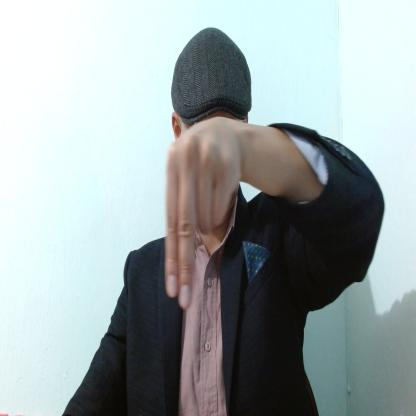N: (164, 115, 244, 308)
